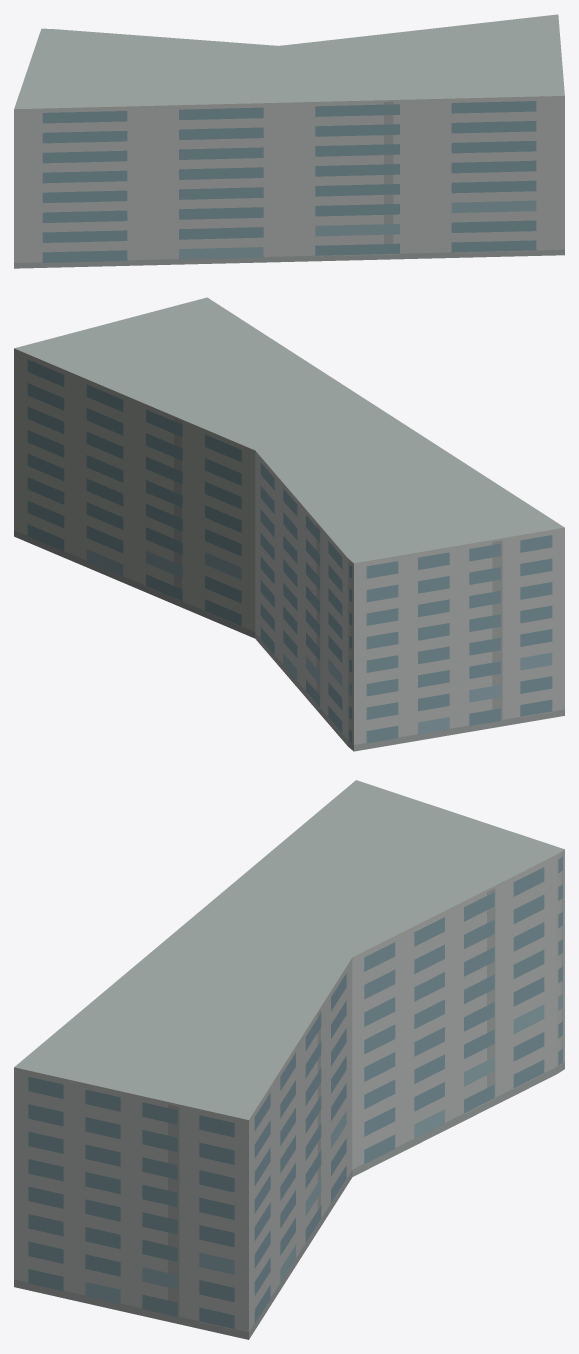
The model's file is survey-upis-32706794.glb.
3 views of the same model, one above another, from view 1: azimuth 30°, elevation 25°; view 2: azimuth 150°, elevation 25°; view 3: azimuth 270°, elevation 25° (orthographic). The views are drawn at different scales.
Visible parts, largest first — view 1: survey-upis-32706794.tmp; view 2: survey-upis-32706794.tmp; view 3: survey-upis-32706794.tmp.
Boxes of the visible parts, box(x1,y1,x2,y2) form: survey-upis-32706794.tmp: box(14, 14, 564, 268); survey-upis-32706794.tmp: box(14, 297, 564, 751); survey-upis-32706794.tmp: box(14, 780, 564, 1339).
Size of the model in its own units: 73.68 by 22.2 by 50.44.
